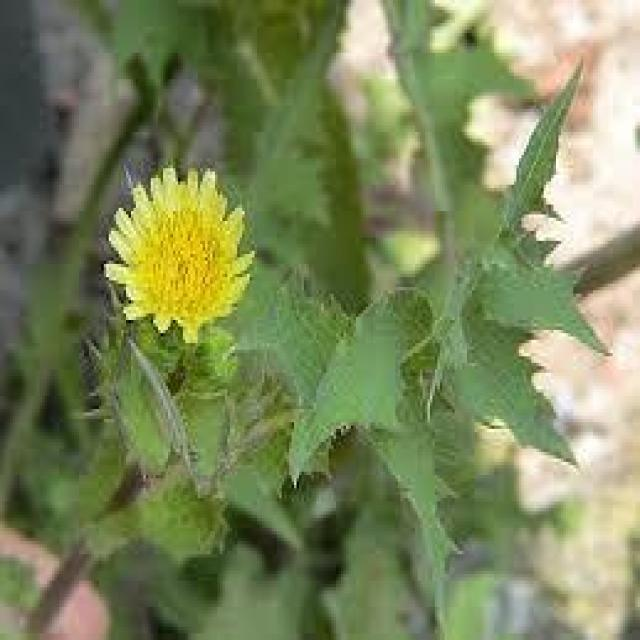organic waste: (104, 165, 262, 343)
